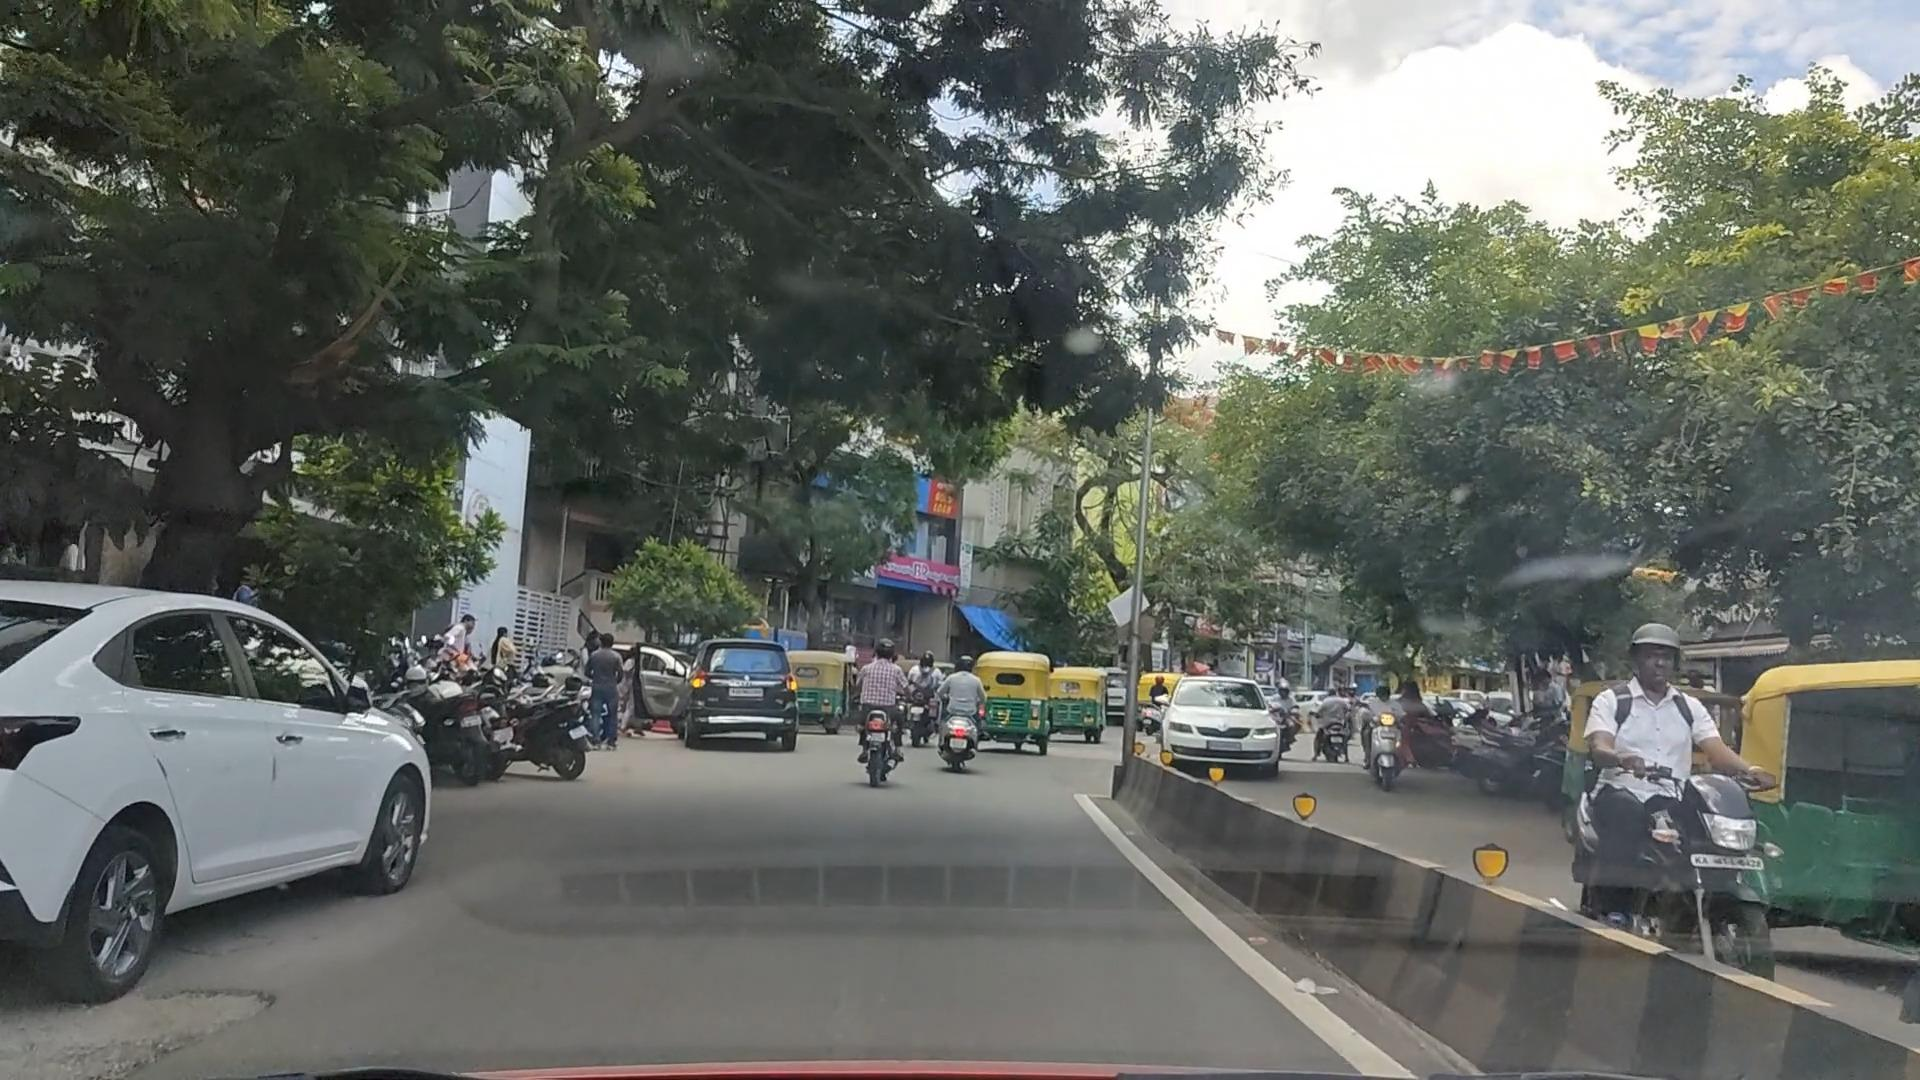LMV: (0, 568, 430, 909), (862, 625, 919, 811)
RoadDamages: (33, 978, 280, 1080)
